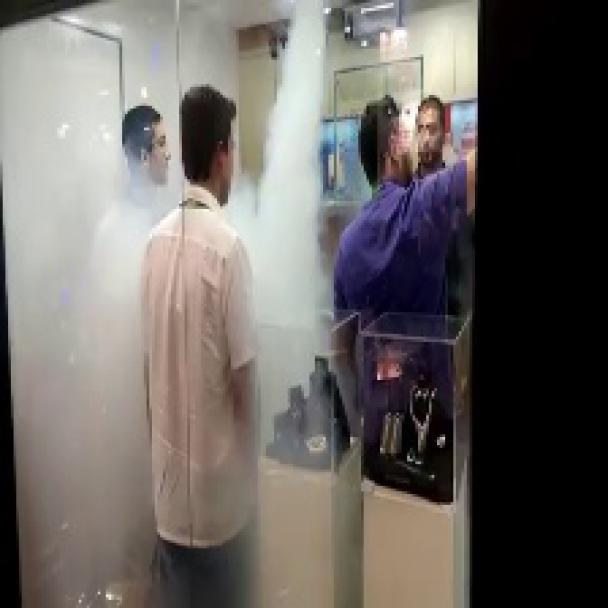smoke: (7, 10, 192, 554), (237, 1, 381, 469)
